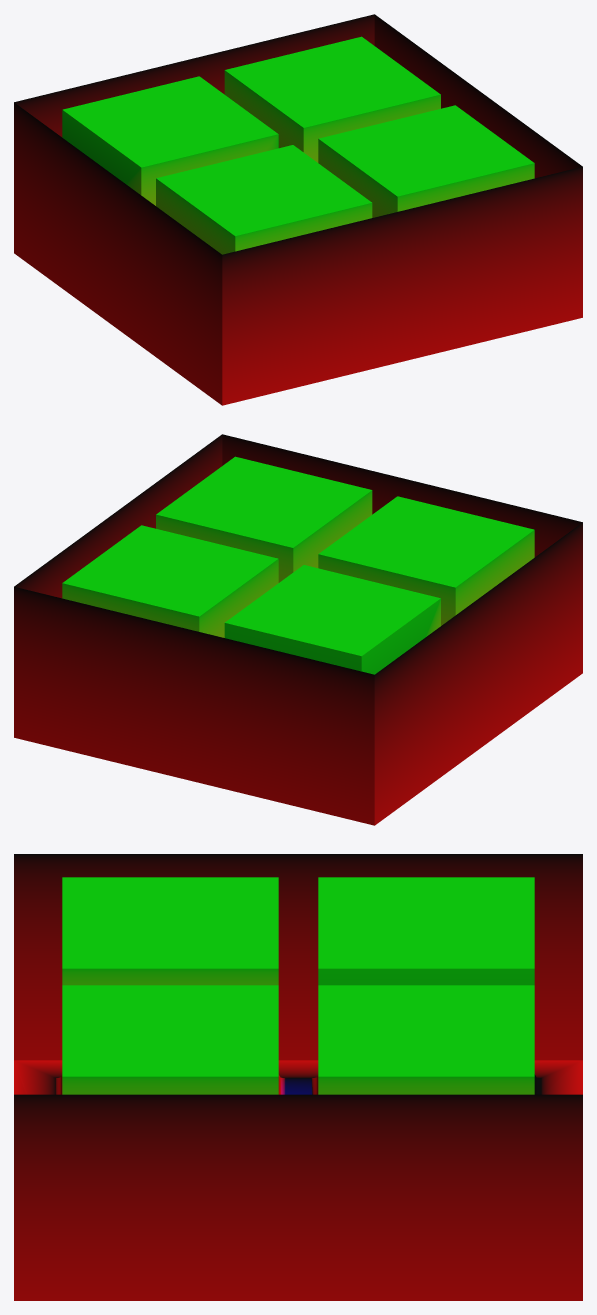
File: CeilingGridV1.fbx
The picture shows the model from 3 angles, top to bottom: view 1: azimuth 30°, elevation 25°; view 2: azimuth 150°, elevation 25°; view 3: azimuth 270°, elevation 25°; orthographic projection. The views are drawn at different scales.
Visible parts, largest first — view 1: CeilingGridV1; view 2: CeilingGridV1; view 3: CeilingGridV1.
Part boxes in pixels (x1=…): CeilingGridV1: x1=14, y1=14, x2=582, y2=405; CeilingGridV1: x1=14, y1=434, x2=582, y2=825; CeilingGridV1: x1=14, y1=854, x2=582, y2=1300.
Bounding box in the file's own units: 200 × 80 × 200.
